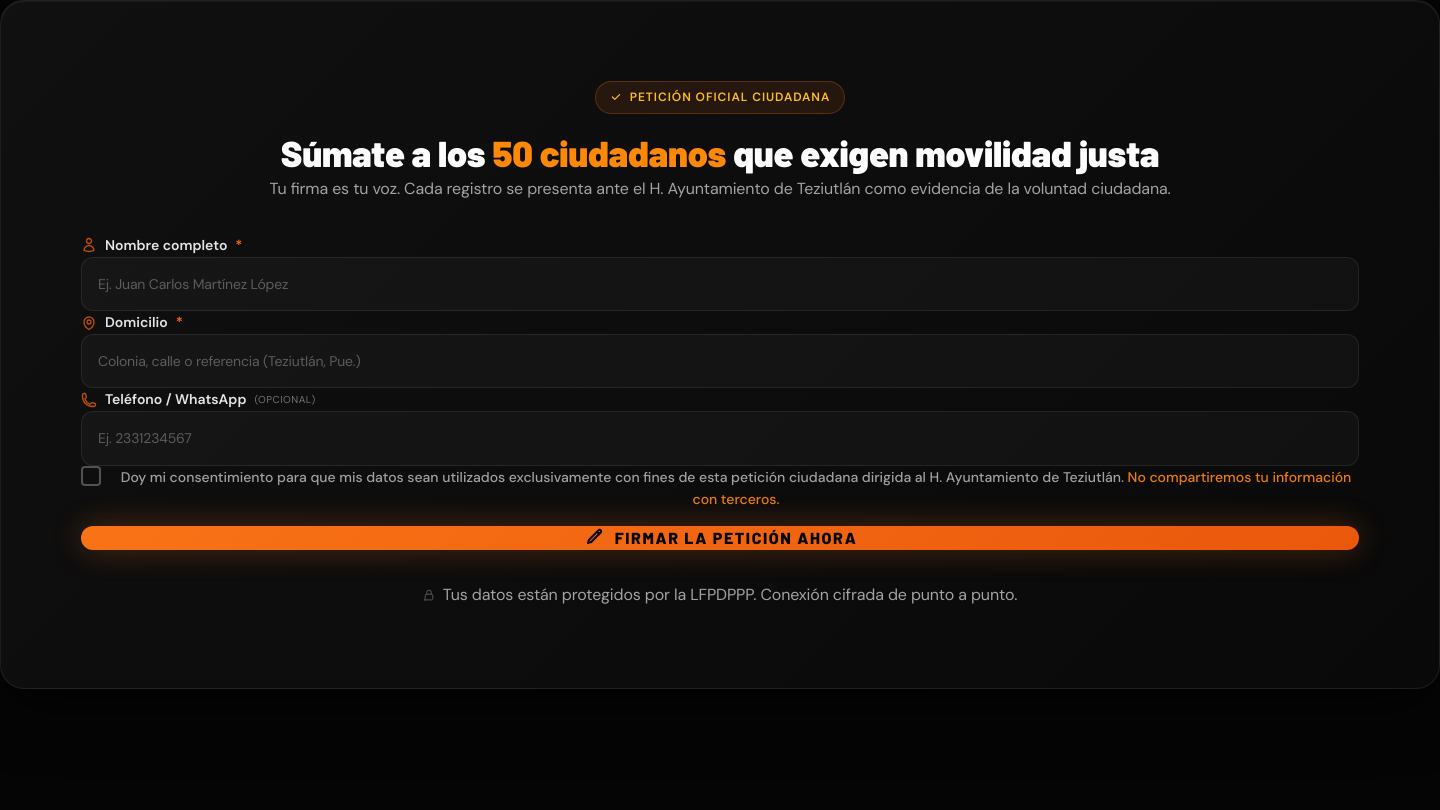
it: SignatureForm › submits successfully with valid data
The image size is (1440, 810).
Type "Juan Pérez" into the field labelled "Nombre completo *" at (720, 284), box [81,257,1359,311]
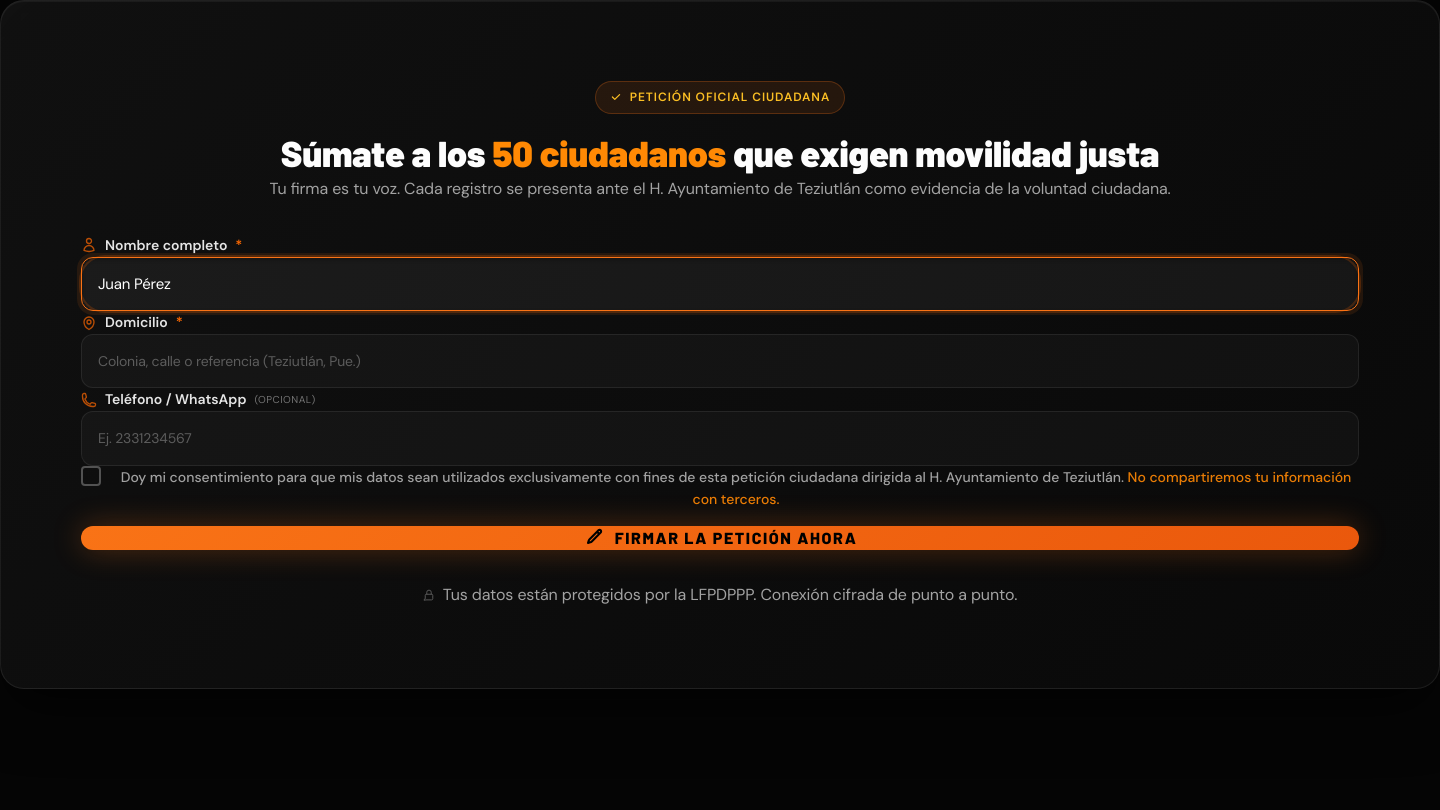
Type "Calle 5 de Mayo #123, Centro" into the field labelled "Domicilio *" at (720, 361), box [81,334,1359,388]
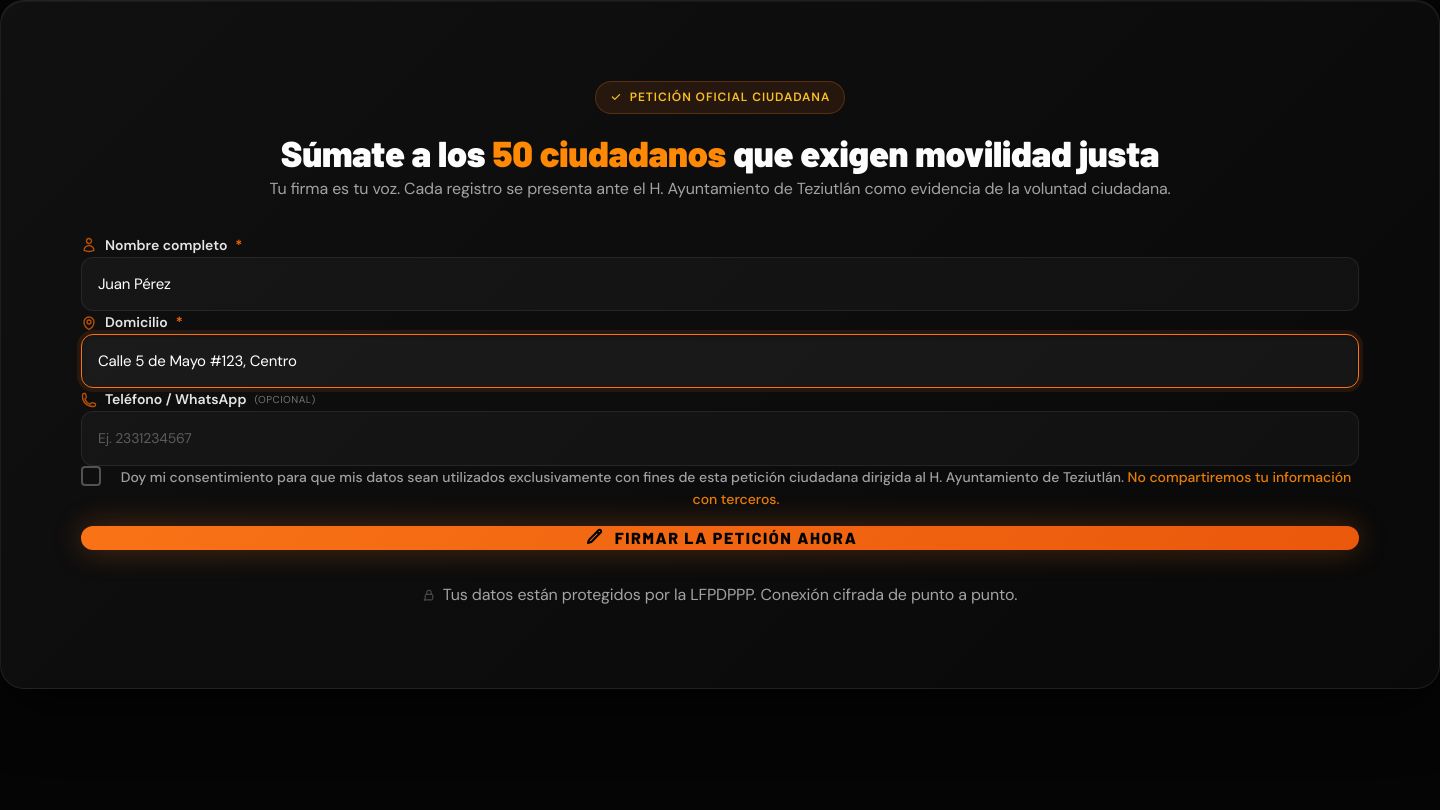
Click the checkbox at (720, 488), box [81,466,1359,510]
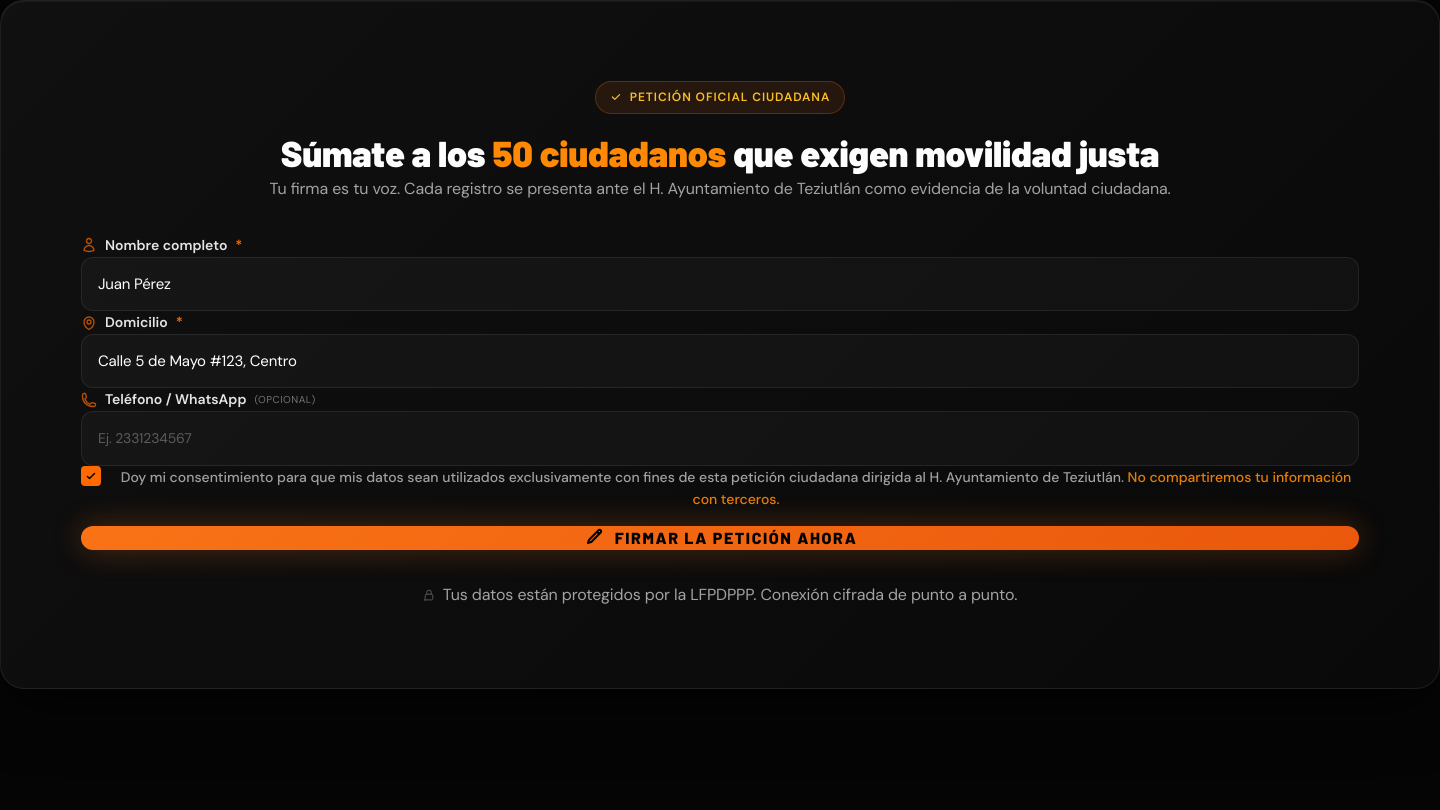
Click the button "Firmar la Petición ahora" at (720, 538), box [81,526,1359,550]
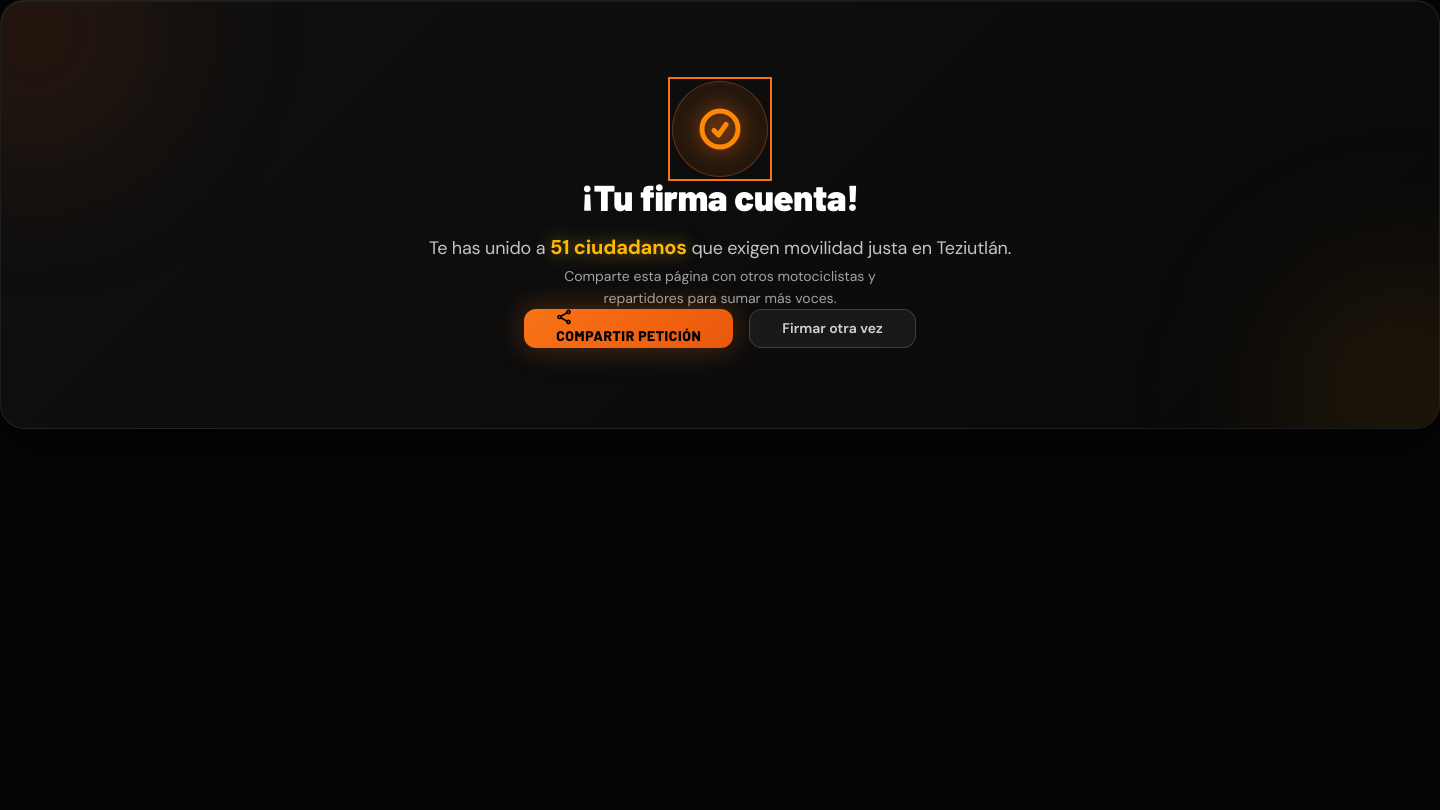
expect the heading "¡Tu firma cuenta!" is shown: met, box [581,175,859,218]
